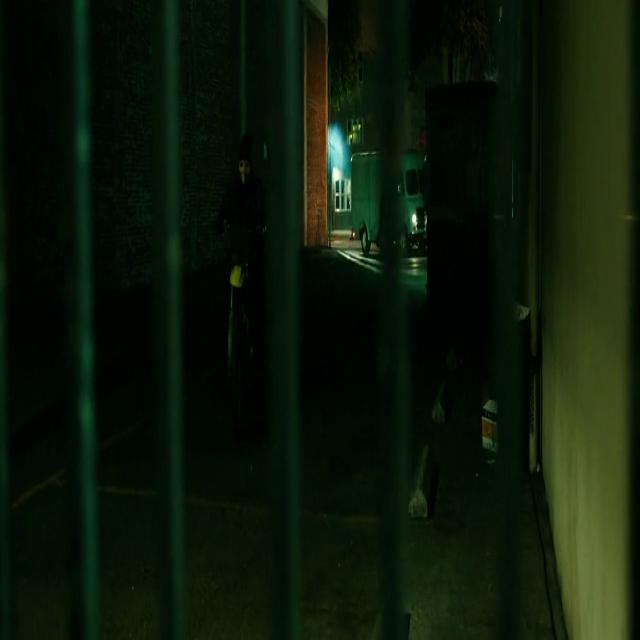Motorbike: (216, 174, 280, 433)
